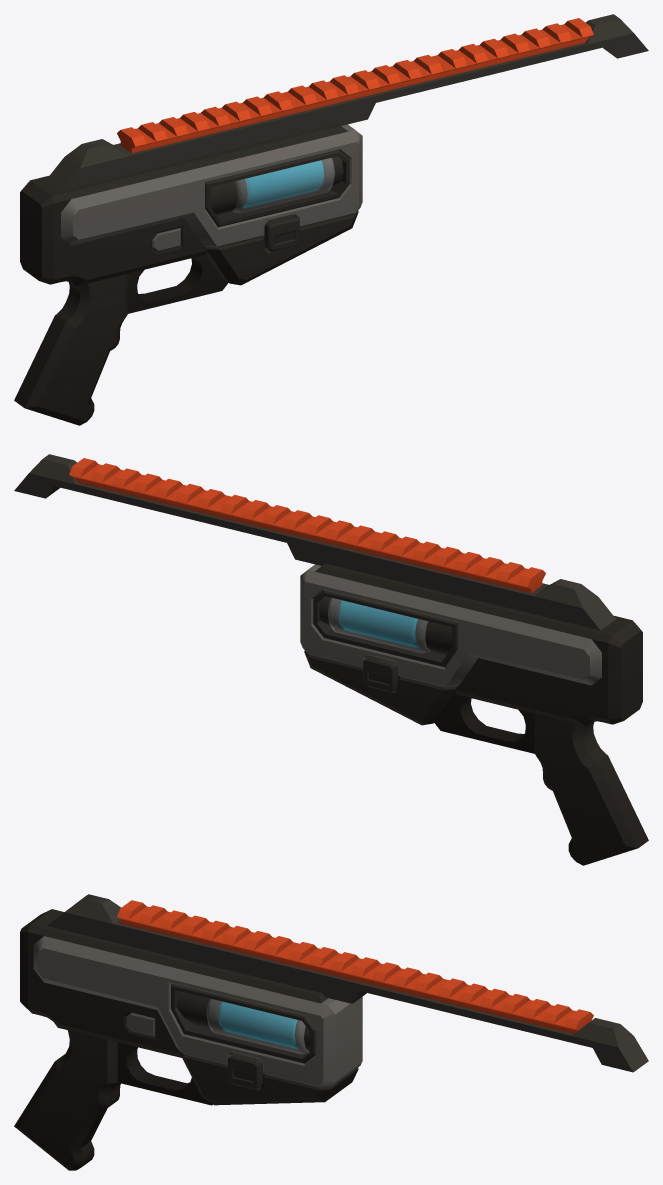
3 renders of one model, top to bottom at view 1: azimuth 30°, elevation 25°; view 2: azimuth 150°, elevation 25°; view 3: azimuth 330°, elevation 25°, orthographic.
Parts seen in each view (by area): view 1: AR2_Base; view 2: AR2_Base; view 3: AR2_Base.
Boxes of the visible parts, left/top/right/bottom form: AR2_Base: left=14, top=14, right=648, bottom=425; AR2_Base: left=14, top=454, right=648, bottom=865; AR2_Base: left=14, top=894, right=648, bottom=1170.
Bounding box in the file's own units: 50.66 × 21.43 × 5.92.
